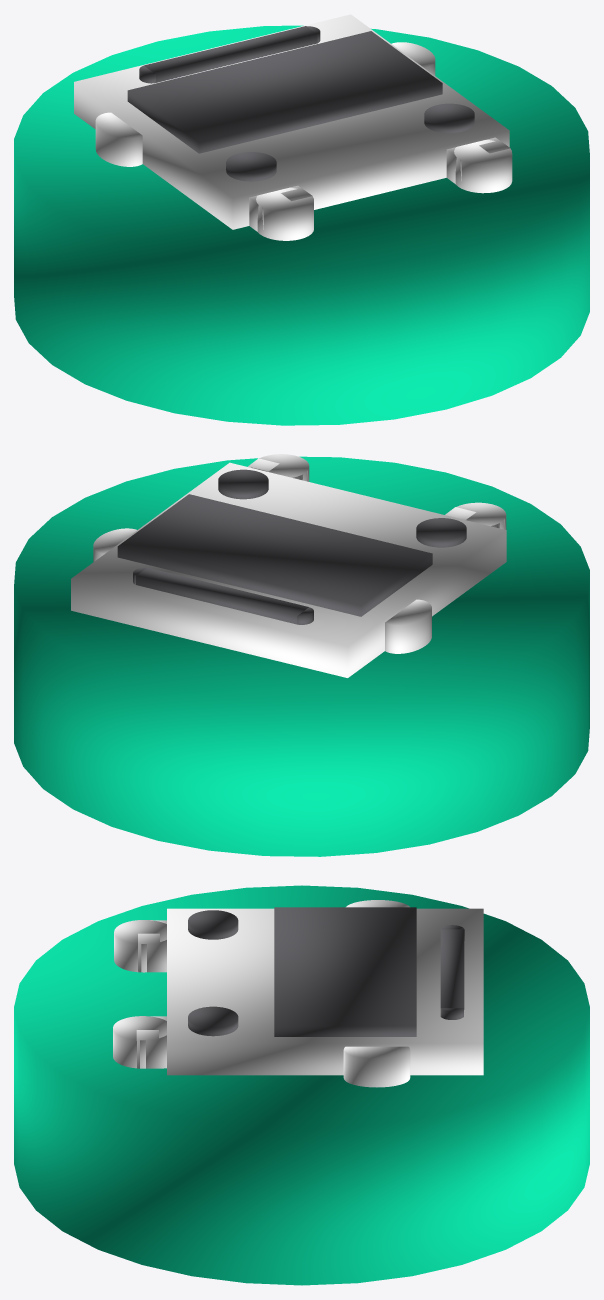
The model's file is busStopTrial.glb.
3 views of the same model, one above another, from view 1: azimuth 30°, elevation 25°; view 2: azimuth 150°, elevation 25°; view 3: azimuth 270°, elevation 25° (orthographic).
Visible parts, largest first — view 1: Mesh0_0, Mesh0_2, Mesh0_1; view 2: Mesh0_0, Mesh0_2, Mesh0_1; view 3: Mesh0_0, Mesh0_2, Mesh0_1.
Boxes of the visible parts, <box> form: Mesh0_0: <box>14,25,589,425</box>; Mesh0_2: <box>74,14,512,240</box>; Mesh0_1: <box>127,26,474,181</box>; Mesh0_0: <box>14,456,589,856</box>; Mesh0_2: <box>71,454,506,677</box>; Mesh0_1: <box>117,469,466,624</box>; Mesh0_0: <box>14,885,589,1285</box>; Mesh0_2: <box>113,900,483,1087</box>; Mesh0_1: <box>188,907,464,1036</box>.
Size of the model in its own units: 2.6 by 0.9937 by 2.6.
